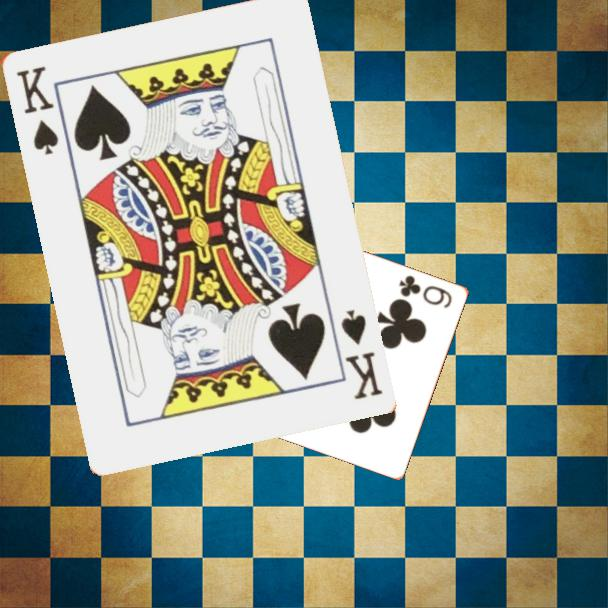c06: (395, 271, 455, 311)
s13: (12, 62, 61, 158), (337, 305, 385, 402)
